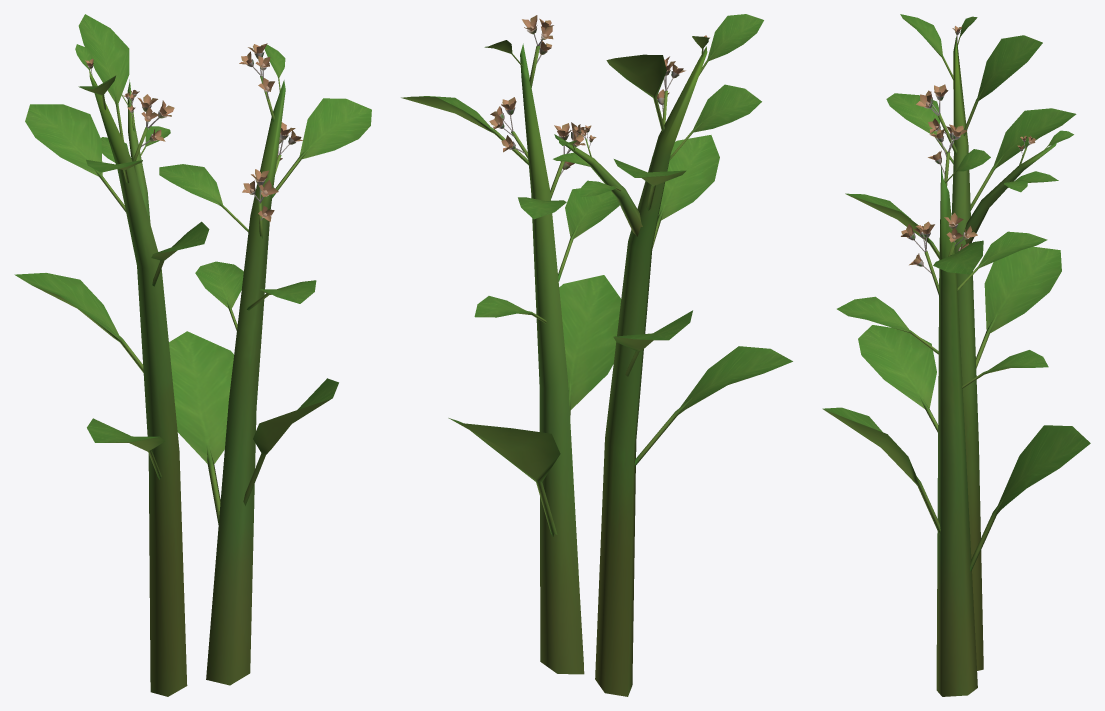
The model's file is PotatoesPlant_04_Budding.fbx.
3 renders of one model, left to right at view 1: azimuth 30°, elevation 25°; view 2: azimuth 150°, elevation 25°; view 3: azimuth 270°, elevation 25°, orthographic. The views are drawn at different scales.
Parts seen in each view (by area): view 1: PotatoesPlant_04_Budding; view 2: PotatoesPlant_04_Budding; view 3: PotatoesPlant_04_Budding.
Part boxes in pixels (x1,y1,x2,y2): PotatoesPlant_04_Budding: (14, 14, 371, 696); PotatoesPlant_04_Budding: (401, 14, 792, 696); PotatoesPlant_04_Budding: (822, 14, 1090, 696).
Bounding box in the file's own units: 50.15 × 96.33 × 37.98.
